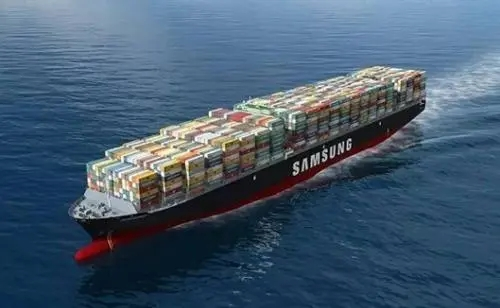Cargoship: (69, 64, 428, 257)
